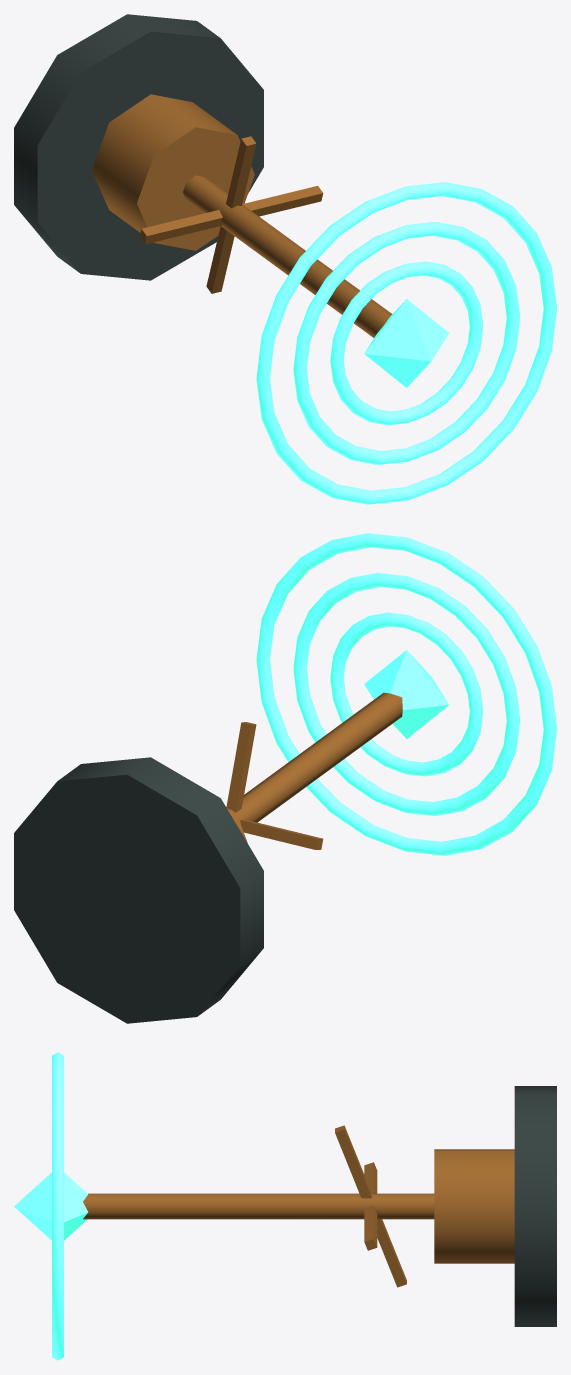
File: suchitoto-signal.glb
3 renders of one model, top to bottom at view 1: azimuth 30°, elevation 25°; view 2: azimuth 150°, elevation 25°; view 3: azimuth 270°, elevation 25°, orthographic. The views are drawn at different scales.
Visible parts, largest first — view 1: base, pedestal, onda-3, onda-2, onda-1, mastil, refuerzo (×2), nucleo-de-senal; view 2: base, onda-3, onda-2, onda-1, mastil, nucleo-de-senal, refuerzo (×2); view 3: base, pedestal, mastil, onda-3, refuerzo (×2), nucleo-de-senal.
Part boxes in pixels (x1,y1,x2,y2): base: (14,14,263,280); pedestal: (92,94,254,250); onda-3: (256,182,556,504); onda-2: (293,222,519,464); onda-1: (330,261,482,425); mastil: (183,175,392,337); refuerzo (×2): (139,136,323,293); nucleo-de-senal: (364,299,449,387); base: (14,757,263,1023); onda-3: (256,533,556,855); onda-2: (293,573,519,815); onda-1: (330,612,482,776); mastil: (230,692,402,822); nucleo-de-senal: (364,650,449,738); refuerzo (×2): (226,722,323,849); base: (514,1086,556,1326); pedestal: (434,1149,514,1263); mastil: (83,1193,434,1219); onda-3: (52,1052,63,1360); refuerzo (×2): (335,1125,406,1287); nucleo-de-senal: (14,1172,88,1240).
Size of the model in its own units: 3.66 by 3.66 by 6.42.
